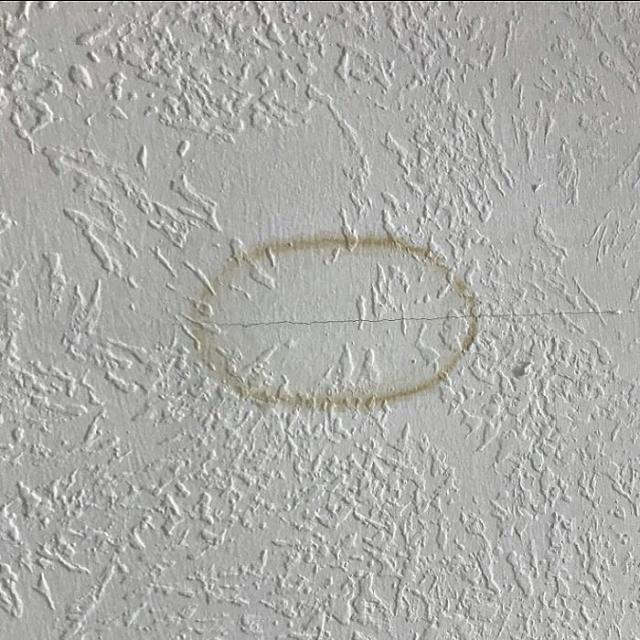Crack: (198, 306, 626, 324)
